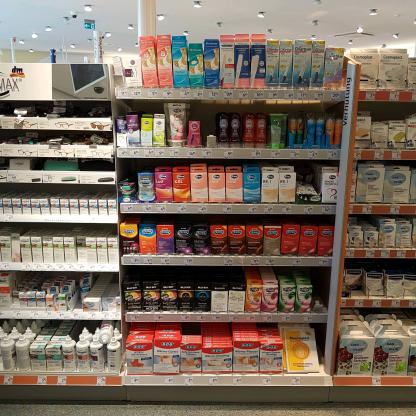Void: (124, 265, 246, 283), (3, 182, 116, 196), (4, 223, 117, 232), (312, 268, 329, 309), (202, 103, 217, 146), (120, 160, 138, 179), (297, 161, 311, 180), (78, 101, 89, 118), (72, 299, 82, 311)
